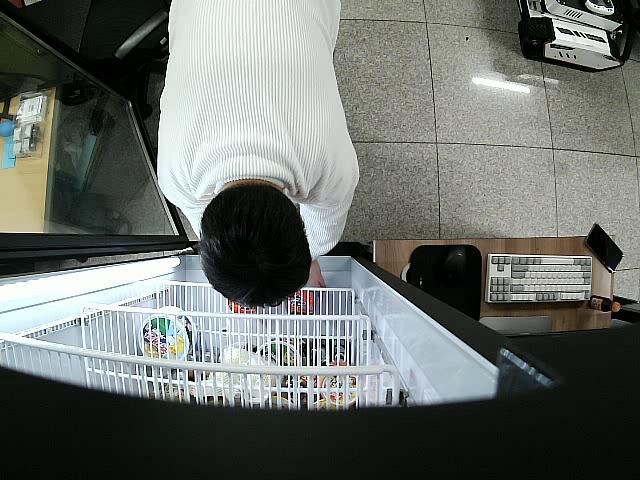00_hand: (303, 267, 325, 296)
02_shinRamen_S: (288, 291, 314, 316)
